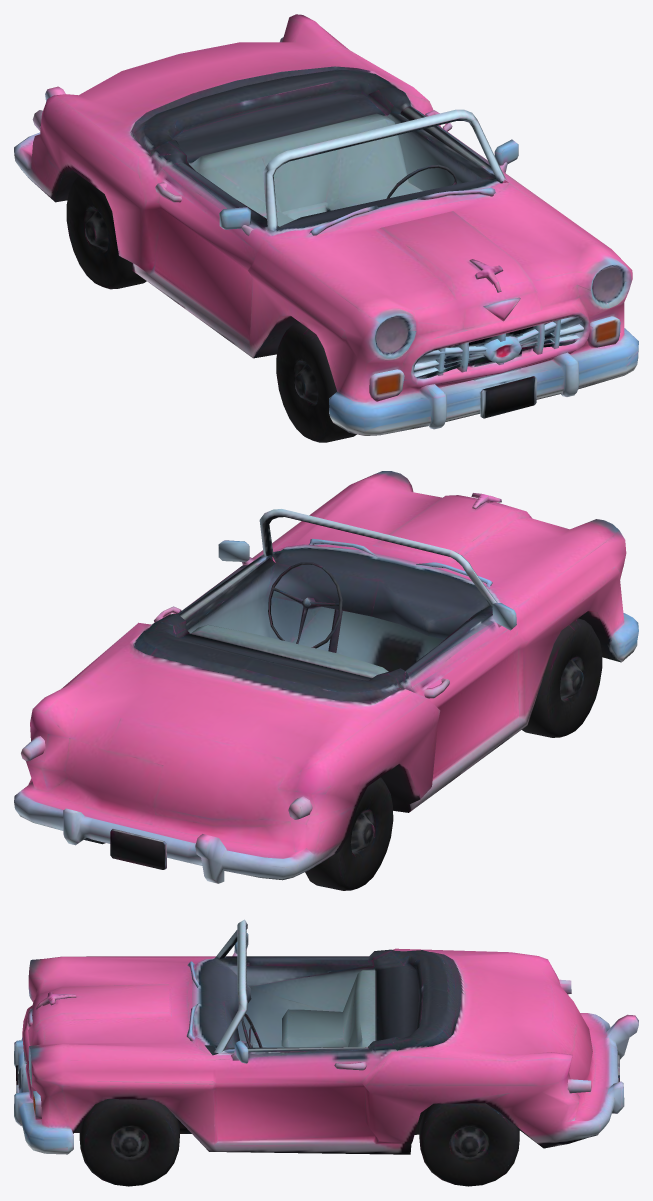
File: Bank_MiamiCar.glb
3 views of the same model, one above another, from view 1: azimuth 30°, elevation 25°; view 2: azimuth 150°, elevation 25°; view 3: azimuth 270°, elevation 25° (orthographic). The views are drawn at different scales.
Visible parts, largest first — view 1: tripo_node_6e626b20-26cd-4299-a911-1a71e01c7266; view 2: tripo_node_6e626b20-26cd-4299-a911-1a71e01c7266; view 3: tripo_node_6e626b20-26cd-4299-a911-1a71e01c7266.
Part boxes in pixels (<box>): tripo_node_6e626b20-26cd-4299-a911-1a71e01c7266: <box>14,14,638,442</box>; tripo_node_6e626b20-26cd-4299-a911-1a71e01c7266: <box>14,471,638,890</box>; tripo_node_6e626b20-26cd-4299-a911-1a71e01c7266: <box>14,919,638,1186</box>.
Size of the model in its own units: 0.4489 by 0.321 by 1.
1 material, 1 textured.
